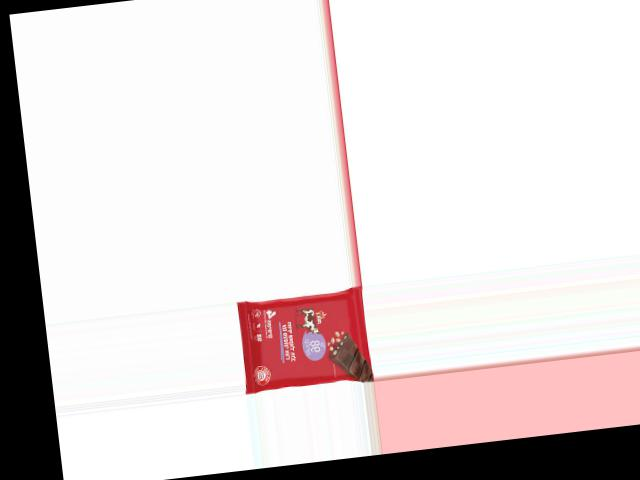chocolate: (234, 286, 372, 392)
